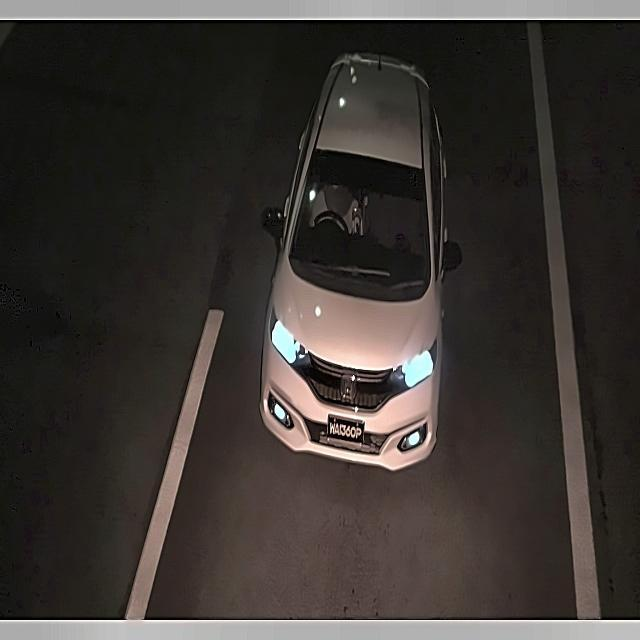car: (326, 401, 366, 453)
